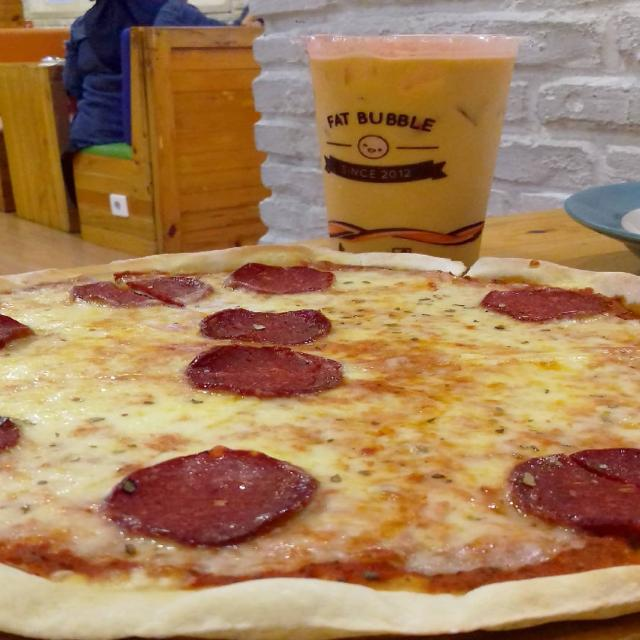pepperoni: (106, 443, 324, 548), (508, 443, 640, 550), (187, 342, 346, 400), (63, 267, 214, 311), (199, 303, 337, 347), (484, 285, 612, 326), (222, 260, 339, 294), (2, 309, 34, 360), (4, 415, 28, 462)
pizza: (0, 245, 638, 640)
